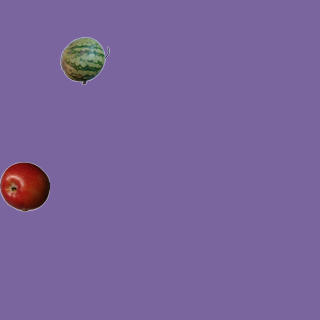Apple Braeburn: (0, 161, 49, 211)
Watermelon: (59, 35, 109, 85)
